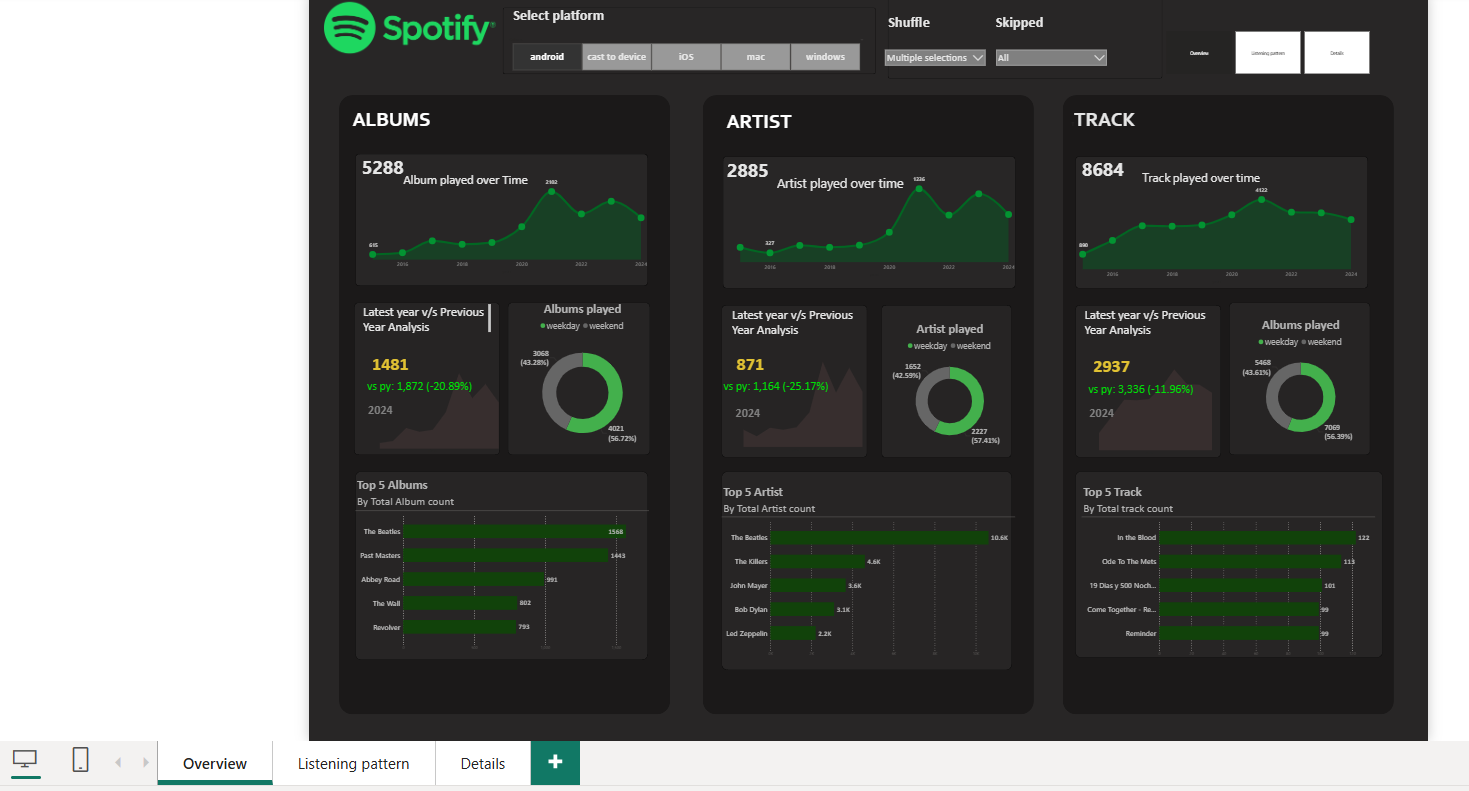

What the dashboard file says about the page in this screenshot:
{"tool":"powerbi","page":{"name":"Overview","canvas":[3300,2200],"ordinal":0},"visuals":[{"type":"shape","box":[1706.7,0,810,246.7],"z":0},{"type":"shape","box":[570,36.7,1100,196.7],"z":1000},{"type":"shape","box":[90,293.3,976.7,1826.7],"z":2000},{"type":"image","box":[10.2,0,575,200],"z":3000},{"type":"textbox","box":[0,323.3,486.7,106.7],"z":4000},{"type":"shape","box":[136.7,470,863.3,390],"z":5000},{"type":"card","fields":{"Values":["spotify_history.No of albums"]},"box":[66.7,460,303.3,86.7],"z":6000},{"type":"textbox","box":[273.3,516.7,540,76.7],"z":7000},{"type":"areaChart","fields":{"Category":["dateTable.year"],"Y":["spotify_history.No of albums"]},"box":[166.7,516.7,836.7,313.3],"z":8000},{"type":"shape","box":[133.3,906.7,430,450],"z":9000},{"type":"areaChart","fields":{"Category":["dateTable.year"],"Y":["spotify_history.No of albums"]},"box":[156.7,1046.7,420,310],"z":10000},{"type":"textbox","box":[156.7,906.7,386.7,96.7],"z":11000},{"type":"card","fields":{"Values":["spotify_history.current year album"]},"box":[90,1040,303.3,86.7],"z":12000},{"type":"card","fields":{"Values":["spotify_history.py and yoy albums kpi"]},"box":[133.3,1123.3,386.7,56.7],"z":13000},{"type":"card","fields":{"Values":["spotify_history.maxyear"]},"box":[96.7,1180,230,86.7],"z":14000},{"type":"slicer","fields":{"Values":["spotify_history.platform"]},"box":[576.7,123.3,1073.3,106.7],"z":15000},{"type":"shape","box":[586.7,906.7,420,450],"z":16000},{"type":"donutChart","title":"Albums played","fields":{"Category":["dateTable.weekday_weekend"],"Y":["spotify_history.No of albums"]},"box":[606.7,903.3,396.7,453.3],"z":17000},{"type":"shape","box":[136.7,1403.3,863.3,556.7],"z":18000},{"type":"clusteredBarChart","title":"Top 5 Albums","fields":{"Category":["spotify_history.album_name"],"Y":["CountNonNull(spotify_history.album_name)"]},"box":[136.7,1423.3,866.7,520],"z":19000},{"type":"shape","box":[1160,293.3,976.7,1826.7],"z":20000},{"type":"shape","box":[2223.3,293.3,976.7,1826.7],"z":21000},{"type":"textbox","box":[1084.7,330.7,486.7,106.7],"z":22000},{"type":"shape","box":[1221.3,477.3,863.3,390],"z":23000},{"type":"card","fields":{"Values":["spotify_history.NO OF ARTIST"]},"box":[1143.3,473.3,303.3,86.7],"z":24000},{"type":"areaChart","fields":{"Category":["dateTable.year"],"Y":["spotify_history.NO OF ARTIST"]},"box":[1251.3,524,836.7,313.3],"z":25000},{"type":"shape","box":[1218,914,430,450],"z":26000},{"type":"textbox","box":[1241.3,914,426.7,133.3],"z":27000},{"type":"card","fields":{"Values":["spotify_history.latest year artist"]},"box":[1150,1040,303.3,86.7],"z":28000},{"type":"areaChart","fields":{"Category":["dateTable.year"],"Y":["spotify_history.NO OF ARTIST"]},"box":[1226.7,1026.7,420,323.3],"z":29000},{"type":"card","fields":{"Values":["spotify_history.py and yoy artist kpi"]},"box":[1183.3,1123.3,386.7,56.7],"z":30000},{"type":"card","fields":{"Values":["spotify_history.maxyear"]},"box":[1181.3,1187.3,230,86.7],"z":31000},{"type":"shape","box":[1690,913.3,383.3,450],"z":32000},{"type":"donutChart","title":"Artist played","fields":{"Category":["dateTable.weekday_weekend"],"Y":["spotify_history.NO OF ARTIST"]},"box":[1706.7,963.3,366.7,383.3],"z":33000},{"type":"shape","box":[1216.7,1403.3,856.7,586.7],"z":34000},{"type":"clusteredBarChart","title":"Top 5 Artist","fields":{"Category":["spotify_history.artist_name"],"Y":["CountNonNull(spotify_history.artist_name)"]},"box":[1218,1440.7,866.7,520],"z":35000},{"type":"textbox","box":[1376.7,523.3,400,63.3],"z":36000},{"type":"shape","box":[2261.3,477.3,863.3,390],"z":37000},{"type":"textbox","box":[2163.3,323.3,356.7,106.7],"z":38000},{"type":"shape","box":[2258,914,430,450],"z":39000},{"type":"card","fields":{"Values":["spotify_history.no of tracks"]},"box":[2191.3,467.3,303.3,86.7],"z":40000},{"type":"textbox","box":[2281.3,914,426.7,133.3],"z":41000},{"type":"areaChart","fields":{"Category":["dateTable.year"],"Y":["spotify_history.no of tracks"]},"box":[2280,1040,400,323.3],"z":42000},{"type":"card","fields":{"Values":["spotify_history.latest year track"]},"box":[2214.7,1047.3,303.3,86.7],"z":43000},{"type":"card","fields":{"Values":["spotify_history.py and yoy track kpi"]},"box":[2258,1130.7,386.7,56.7],"z":44000},{"type":"shape","box":[2713.3,906.7,416.7,450],"z":45000},{"type":"card","fields":{"Values":["spotify_history.maxyear"]},"box":[2221.3,1187.3,230,86.7],"z":46000},{"type":"donutChart","title":"Albums played","fields":{"Category":["dateTable.weekday_weekend"],"Y":["spotify_history.no of tracks"]},"box":[2730,950,386.7,383.3],"z":47000},{"type":"shape","box":[2260,1403.3,906.7,550],"z":48000},{"type":"clusteredBarChart","title":"Top 5 Track","fields":{"Category":["spotify_history.track_name"],"Y":["CountNonNull(spotify_history.track_name)"]},"box":[2280,1440,866.7,520],"z":49000},{"type":"areaChart","fields":{"Category":["dateTable.year"],"Y":["spotify_history.no of tracks"]},"box":[2260,546.7,836.7,313.3],"z":50000},{"type":"textbox","box":[2450,513.3,363.3,90],"z":51000},{"type":"textbox","box":[596.7,30,400,63.3],"z":52000},{"type":"slicer","fields":{"Values":["spotify_history.shuffle"]},"box":[1690,150,316.7,100],"z":53000},{"type":"slicer","fields":{"Values":["spotify_history.skipped"]},"box":[2016.7,150,346.7,113.3],"z":54000},{"type":"textbox","box":[1703.3,46.7,180,86.7],"z":55000},{"type":"textbox","box":[2020,46.7,256.7,70],"z":56000},{"type":"pageNavigator","box":[2530,106.7,600,126.7],"z":56001}]}

Visuals, with their boxes on the page's 3300x2200 design canvas (x1, y1, x2, y2). These are canvas units, not pixel positions in the 1469x791 screenshot, which may show the page scaled, cropped or inside an application window:
shape: (1707,0,2517,247)
shape: (570,37,1670,233)
shape: (90,293,1067,2120)
image: (10,0,585,200)
textbox: (0,323,487,430)
shape: (137,470,1000,860)
card - spotify_history.No of albums: (67,460,370,547)
textbox: (273,517,813,593)
areaChart - dateTable.year x spotify_history.No of albums: (167,517,1003,830)
shape: (133,907,563,1357)
areaChart - dateTable.year x spotify_history.No of albums: (157,1047,577,1357)
textbox: (157,907,543,1003)
card - spotify_history.current year album: (90,1040,393,1127)
card - spotify_history.py and yoy albums kpi: (133,1123,520,1180)
card - spotify_history.maxyear: (97,1180,327,1267)
slicer - spotify_history.platform: (577,123,1650,230)
shape: (587,907,1007,1357)
"Albums played" donutChart: (607,903,1003,1357)
shape: (137,1403,1000,1960)
"Top 5 Albums" clusteredBarChart: (137,1423,1003,1943)
shape: (1160,293,2137,2120)
shape: (2223,293,3200,2120)
textbox: (1085,331,1571,437)
shape: (1221,477,2085,867)
card - spotify_history.NO OF ARTIST: (1143,473,1447,560)
areaChart - dateTable.year x spotify_history.NO OF ARTIST: (1251,524,2088,837)
shape: (1218,914,1648,1364)
textbox: (1241,914,1668,1047)
card - spotify_history.latest year artist: (1150,1040,1453,1127)
areaChart - dateTable.year x spotify_history.NO OF ARTIST: (1227,1027,1647,1350)
card - spotify_history.py and yoy artist kpi: (1183,1123,1570,1180)
card - spotify_history.maxyear: (1181,1187,1411,1274)
shape: (1690,913,2073,1363)
"Artist played" donutChart: (1707,963,2073,1347)
shape: (1217,1403,2073,1990)
"Top 5 Artist" clusteredBarChart: (1218,1441,2085,1961)
textbox: (1377,523,1777,587)
shape: (2261,477,3125,867)
textbox: (2163,323,2520,430)
shape: (2258,914,2688,1364)
card - spotify_history.no of tracks: (2191,467,2495,554)
textbox: (2281,914,2708,1047)
areaChart - dateTable.year x spotify_history.no of tracks: (2280,1040,2680,1363)
card - spotify_history.latest year track: (2215,1047,2518,1134)
card - spotify_history.py and yoy track kpi: (2258,1131,2645,1187)
shape: (2713,907,3130,1357)
card - spotify_history.maxyear: (2221,1187,2451,1274)
"Albums played" donutChart: (2730,950,3117,1333)
shape: (2260,1403,3167,1953)
"Top 5 Track" clusteredBarChart: (2280,1440,3147,1960)
areaChart - dateTable.year x spotify_history.no of tracks: (2260,547,3097,860)
textbox: (2450,513,2813,603)
textbox: (597,30,997,93)
slicer - spotify_history.shuffle: (1690,150,2007,250)
slicer - spotify_history.skipped: (2017,150,2363,263)
textbox: (1703,47,1883,133)
textbox: (2020,47,2277,117)
pageNavigator: (2530,107,3130,233)
